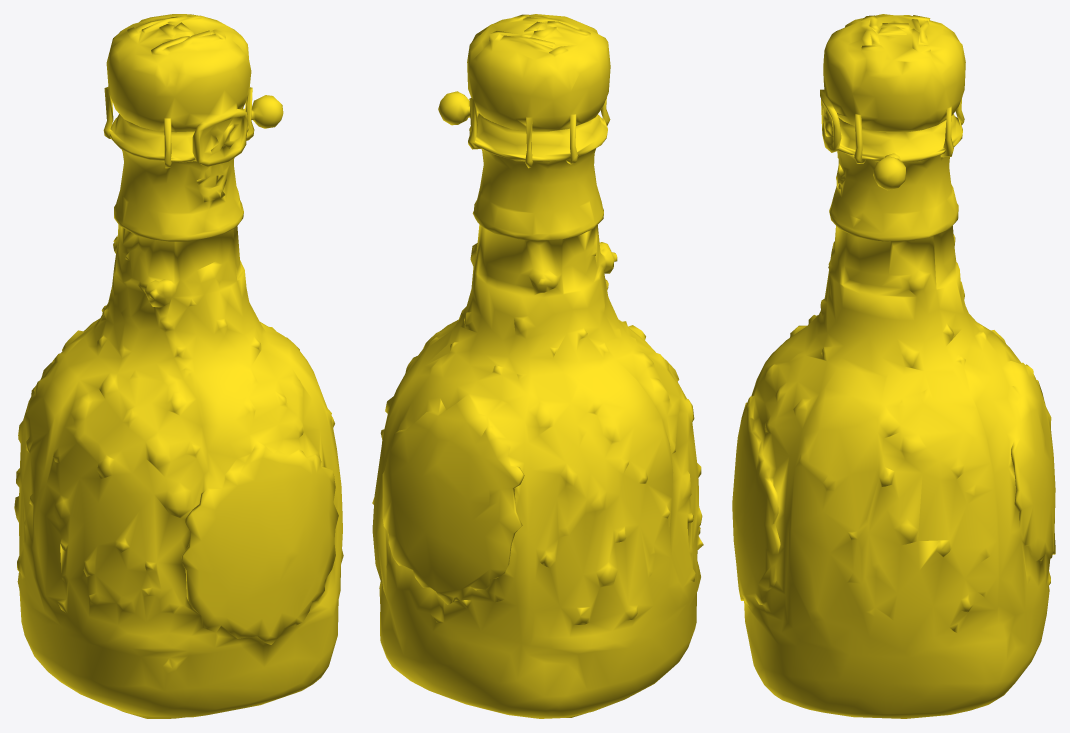
File: Champagne.glb
3 renders of one model, left to right at view 1: azimuth 30°, elevation 25°; view 2: azimuth 150°, elevation 25°; view 3: azimuth 270°, elevation 25°, orthographic.
Visible parts, largest first — view 1: 香檳; view 2: 香檳; view 3: 香檳.
Part boxes in pixels (<box>): 香檳: <box>14,14,343,718</box>; 香檳: <box>372,14,703,718</box>; 香檳: <box>732,14,1055,718</box>.
Bounding box in the file's own units: 0.0224 × 0.049 × 0.0225.
